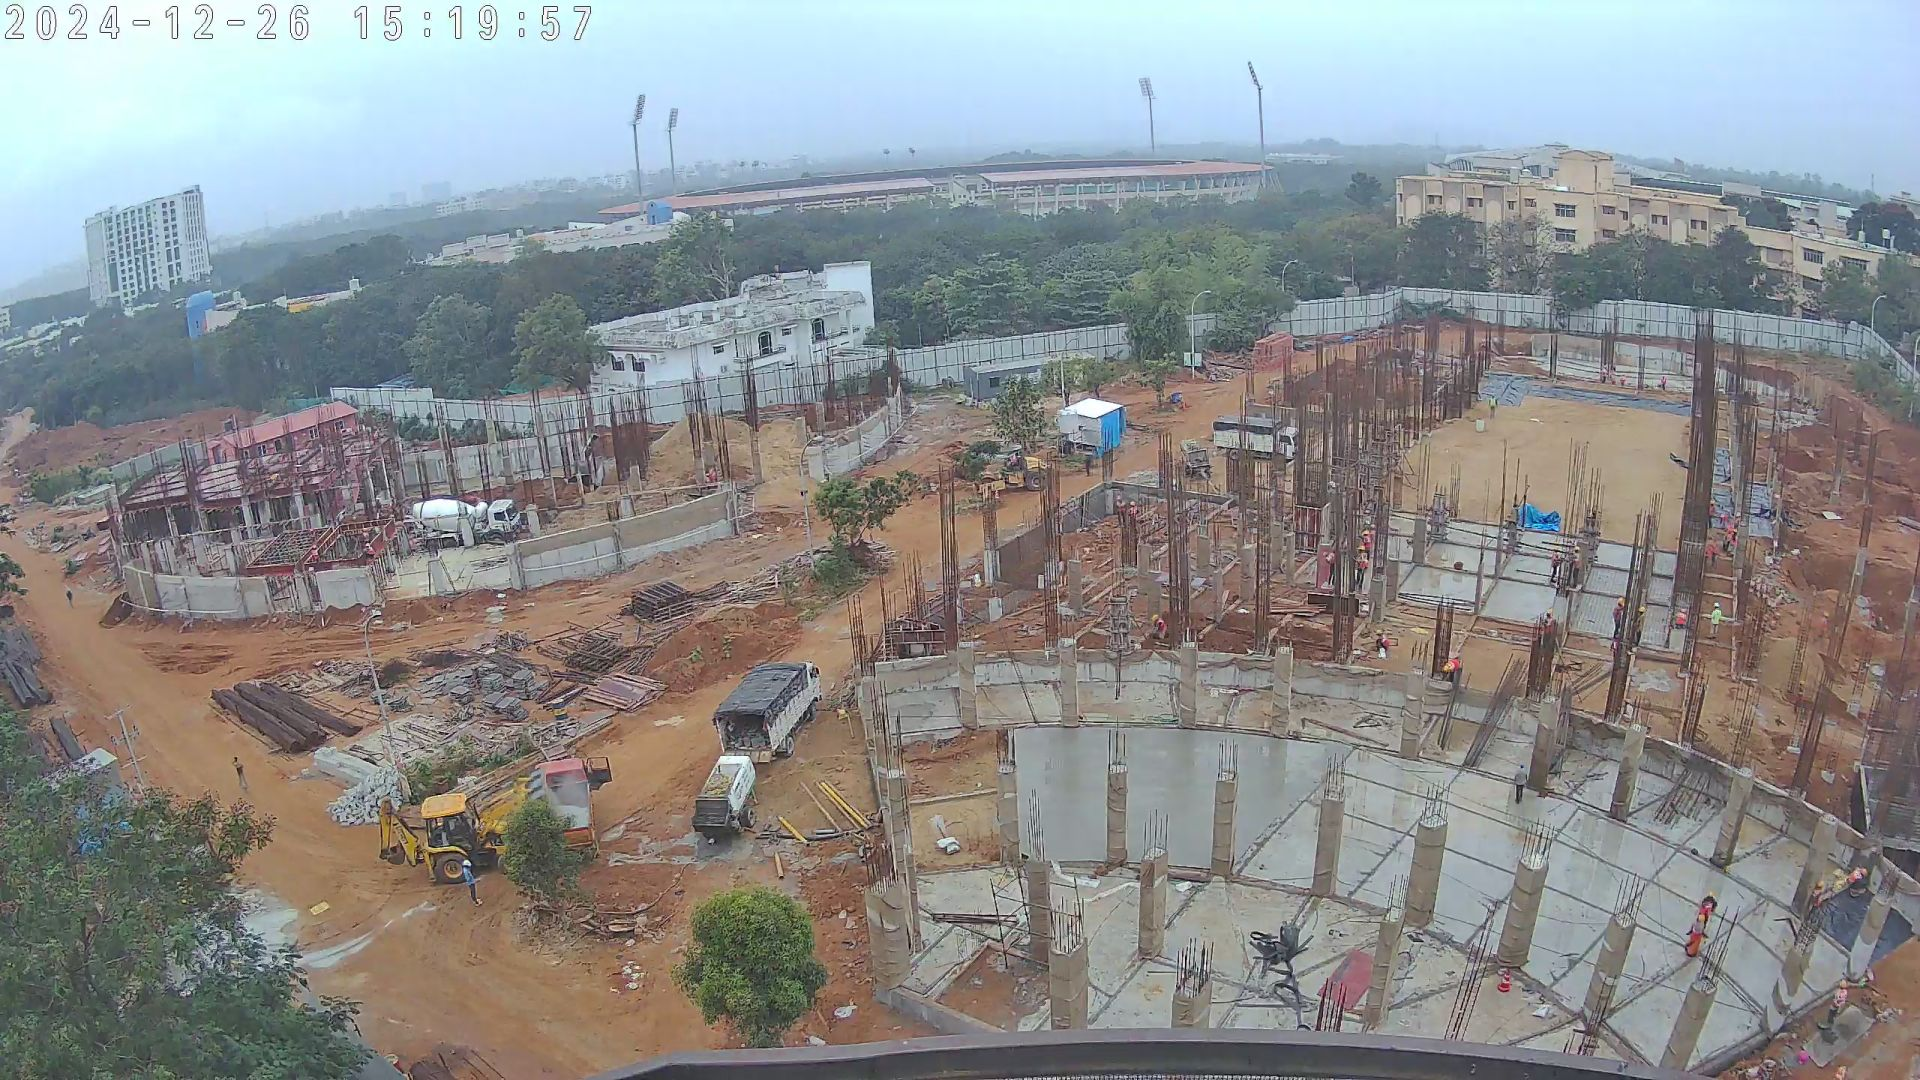bulldozer: (373, 793, 529, 887), (973, 446, 1056, 501)
truck: (693, 654, 823, 834), (531, 757, 619, 864), (401, 493, 519, 550), (1207, 411, 1294, 468), (1177, 441, 1211, 486)
worker: (459, 857, 480, 908), (1514, 766, 1534, 813), (1687, 916, 1708, 960), (226, 751, 247, 793), (1351, 556, 1371, 600), (1826, 980, 1843, 1031), (1547, 545, 1563, 594), (1441, 654, 1463, 688), (1609, 597, 1624, 641), (1843, 866, 1867, 893), (1571, 543, 1585, 589), (1696, 890, 1718, 919), (1703, 533, 1721, 568), (1153, 613, 1167, 657), (1322, 549, 1337, 588), (1813, 876, 1823, 933), (1634, 606, 1647, 648), (1486, 391, 1501, 427), (1722, 524, 1738, 555), (1115, 493, 1128, 531), (1373, 628, 1389, 658), (1127, 494, 1139, 533), (59, 584, 73, 617), (1081, 450, 1095, 480), (1359, 528, 1372, 559), (1674, 610, 1688, 632), (1711, 604, 1720, 635), (703, 467, 718, 485), (1709, 498, 1716, 528)
